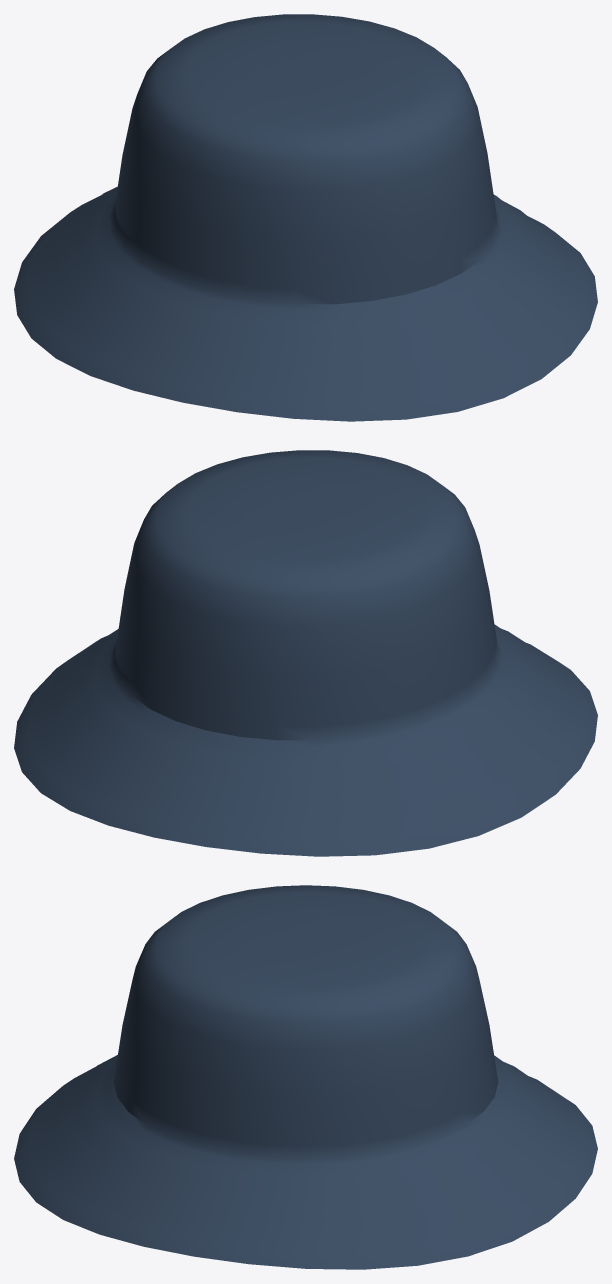
Rendered from bucket_hat.glb.
3 views of the same model, one above another, from view 1: azimuth 30°, elevation 25°; view 2: azimuth 150°, elevation 25°; view 3: azimuth 270°, elevation 25° (orthographic). The views are drawn at different scales.
Visible parts, largest first — view 1: bucket_hat; view 2: bucket_hat; view 3: bucket_hat.
Boxes of the visible parts, box(x1,y1,x2,y2) form: bucket_hat: box(14, 14, 597, 421); bucket_hat: box(14, 450, 597, 856); bucket_hat: box(14, 885, 597, 1269).
Bounding box in the file's own units: 0.2812 × 0.124 × 0.296.
